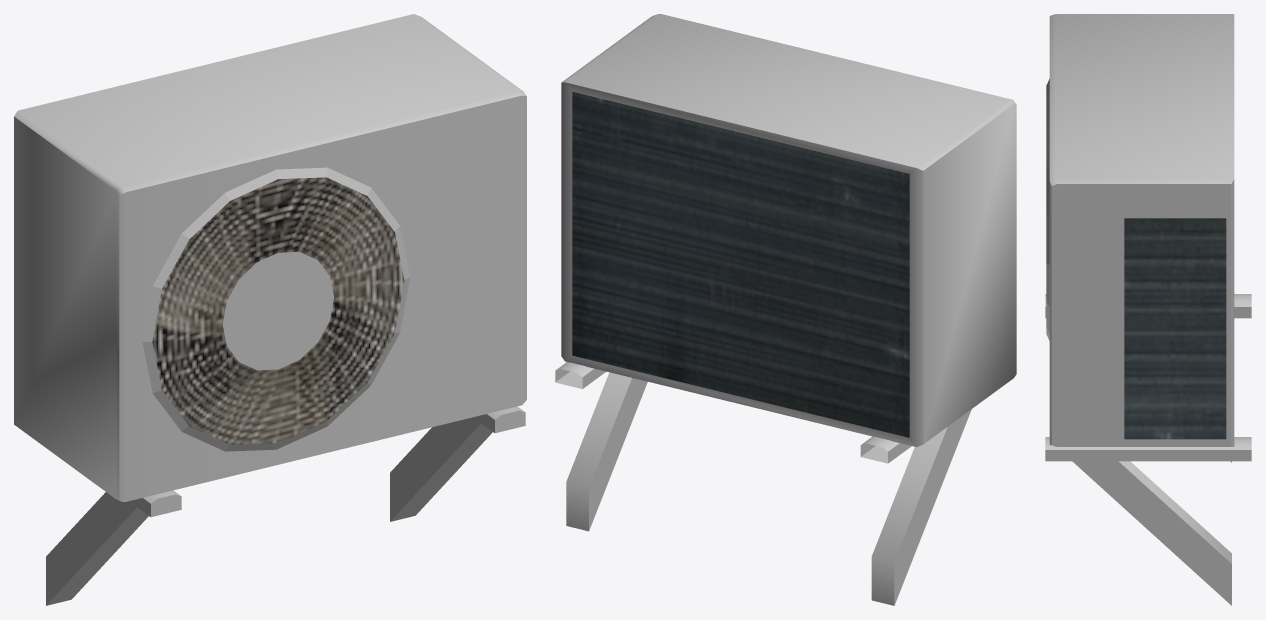
Rendered from aircon2.fbx.
The picture shows the model from 3 angles, left to right: view 1: azimuth 30°, elevation 25°; view 2: azimuth 150°, elevation 25°; view 3: azimuth 270°, elevation 25°; orthographic projection. The views are drawn at different scales.
Visible parts, largest first — view 1: aircon2; view 2: aircon2; view 3: aircon2.
Boxes of the visible parts, bbox=[...] form: aircon2: bbox=[14, 14, 526, 605]; aircon2: bbox=[555, 14, 1016, 605]; aircon2: bbox=[1045, 14, 1251, 605].
Size of the model in its own units: 0.6877 by 0.8071 by 0.3535.
